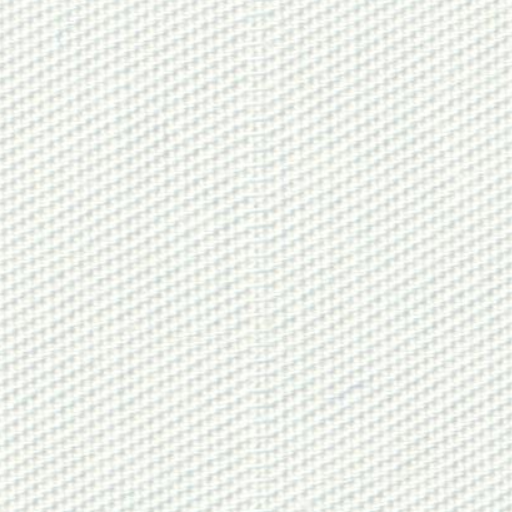TuoSha: (214, 6, 314, 504)
